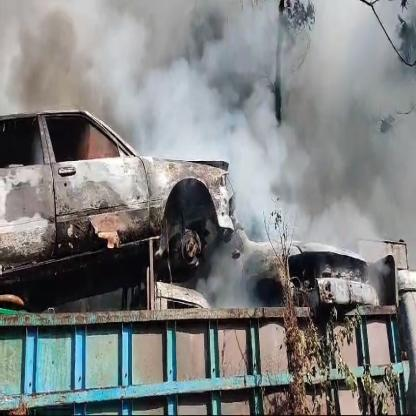Smoke: (0, 0, 416, 310)
